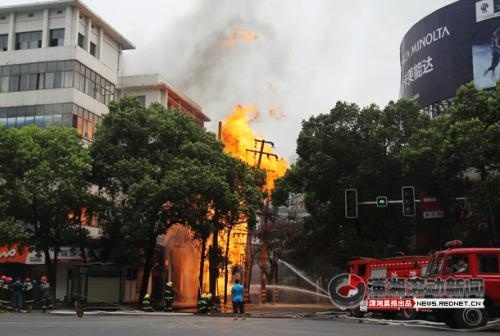fire: (220, 97, 290, 193), (221, 23, 259, 48)
